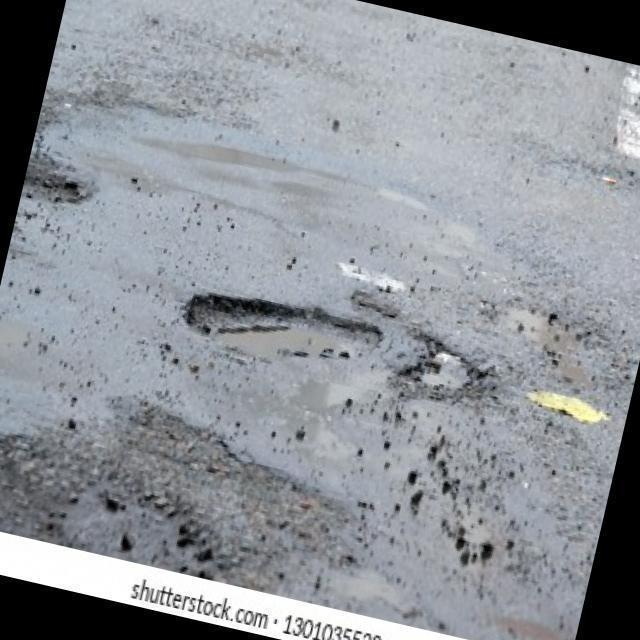pothole: (176, 276, 386, 380), (411, 337, 481, 405)
